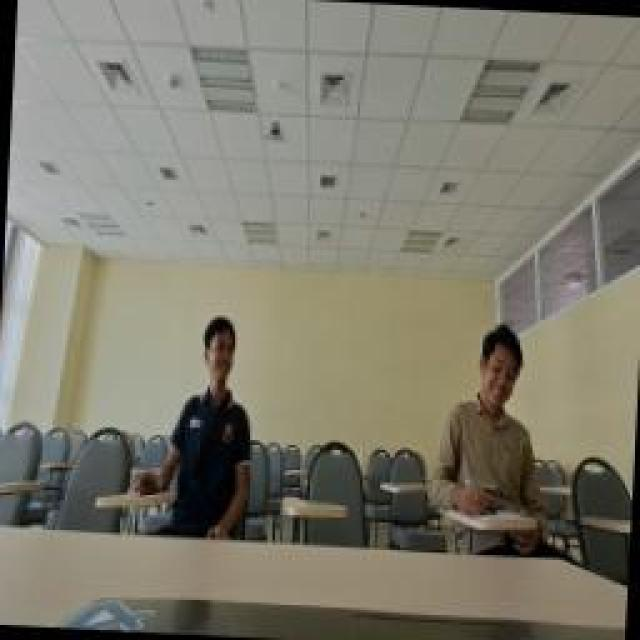study: (425, 318, 553, 520), (167, 310, 255, 495)
